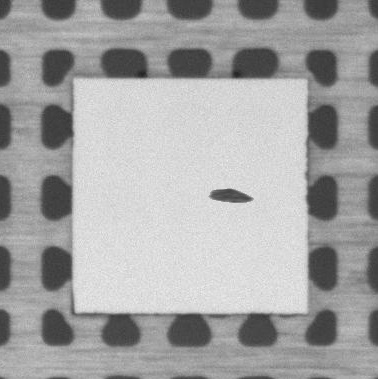DIE_INK: (208, 187, 254, 204)
